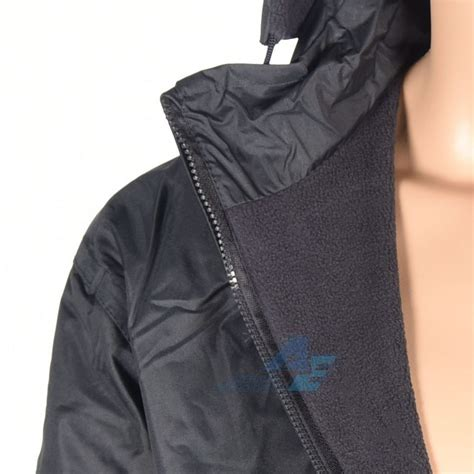nylon: (37, 1, 396, 474)
